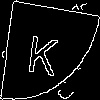K: (25, 25, 62, 77)
